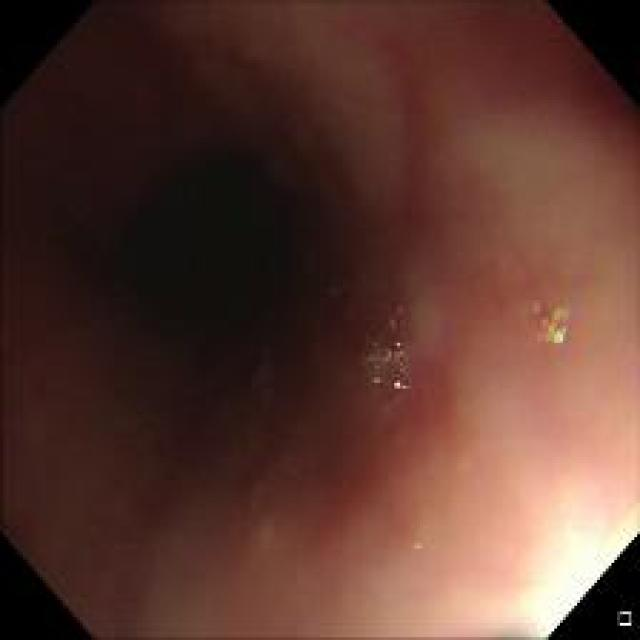bubbles: (360, 311, 421, 400), (522, 289, 572, 349)
color misalignment: (366, 322, 411, 394), (538, 299, 565, 344)
contrast: (75, 88, 358, 431)
saturation: (528, 531, 626, 612)
